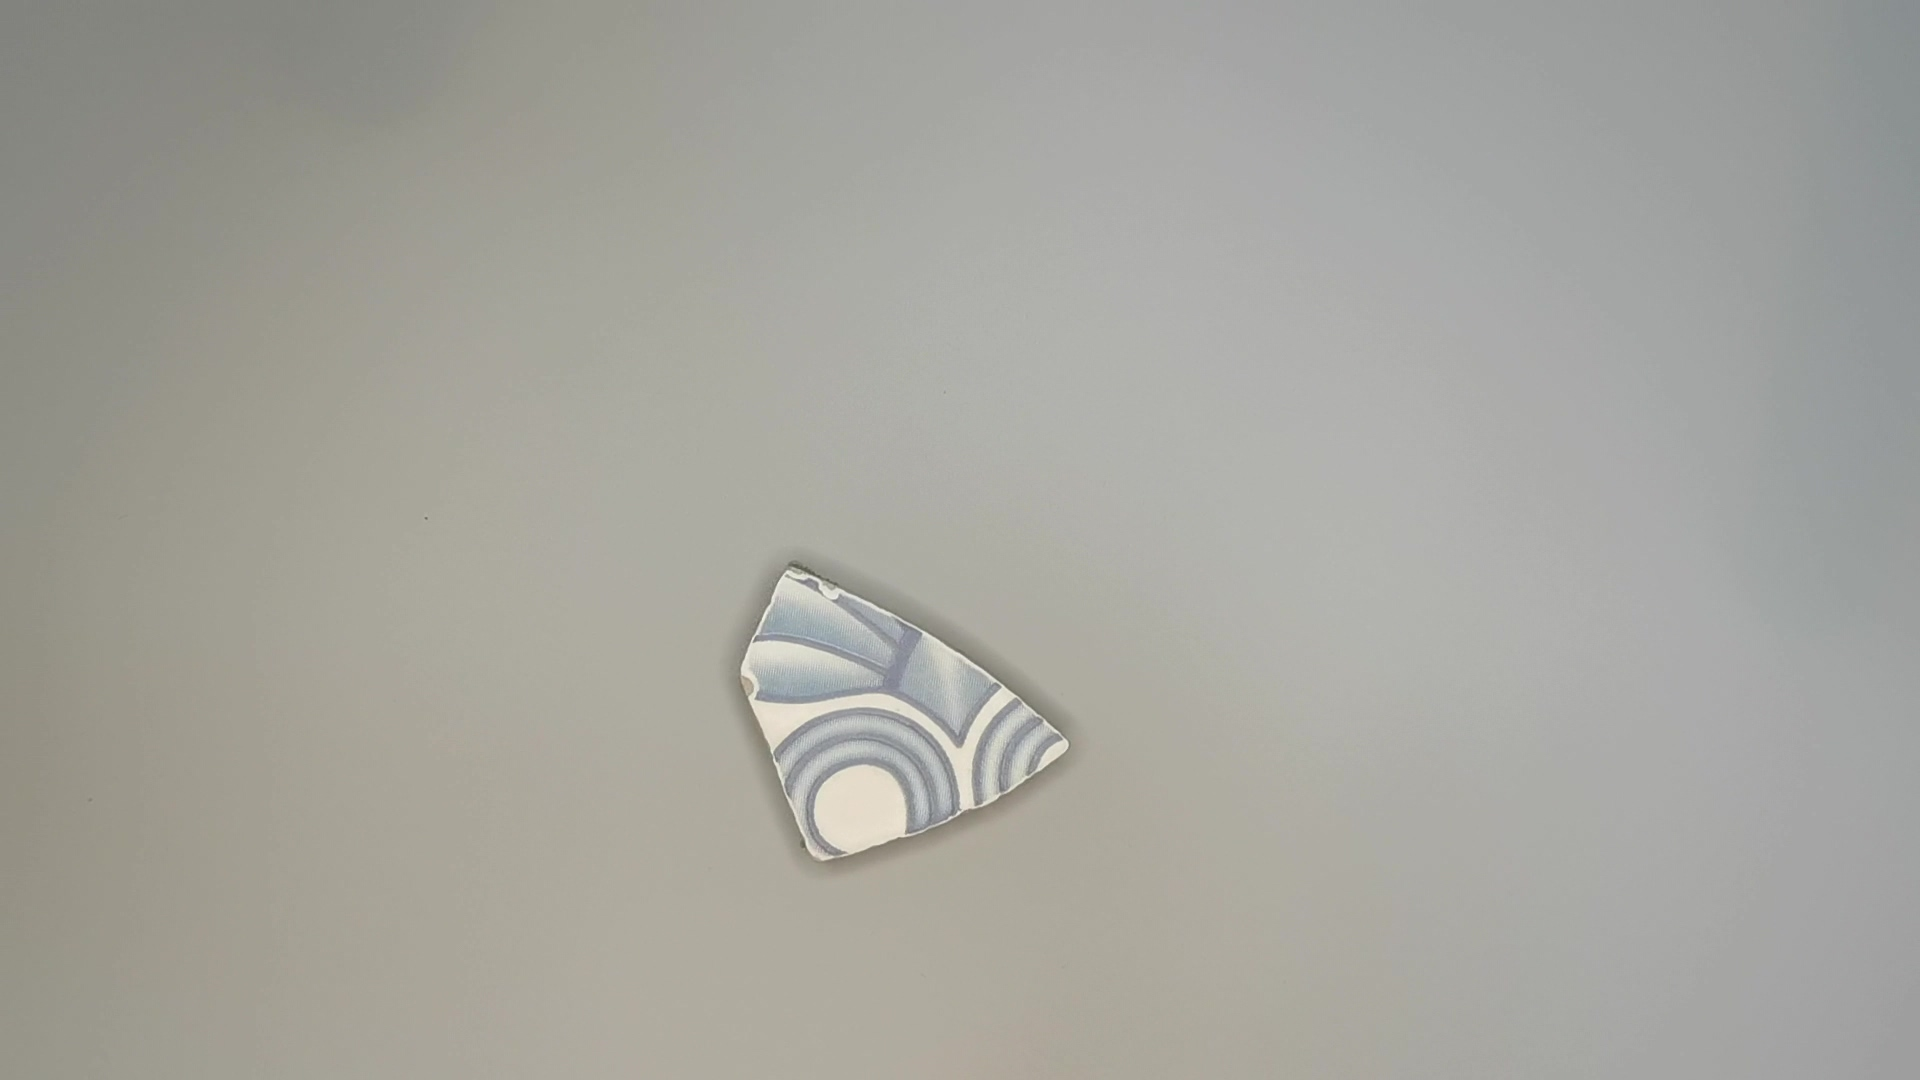ceramic: (731, 556, 1073, 868)
